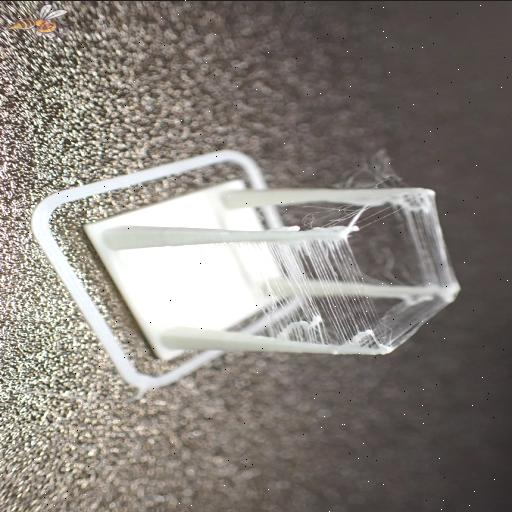stringing: (214, 237, 395, 346), (396, 193, 461, 289), (342, 297, 458, 349)
